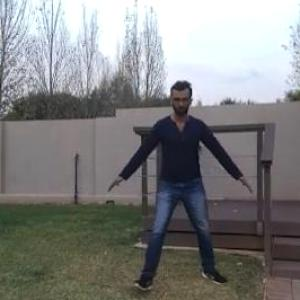land: (113, 81, 237, 296)
